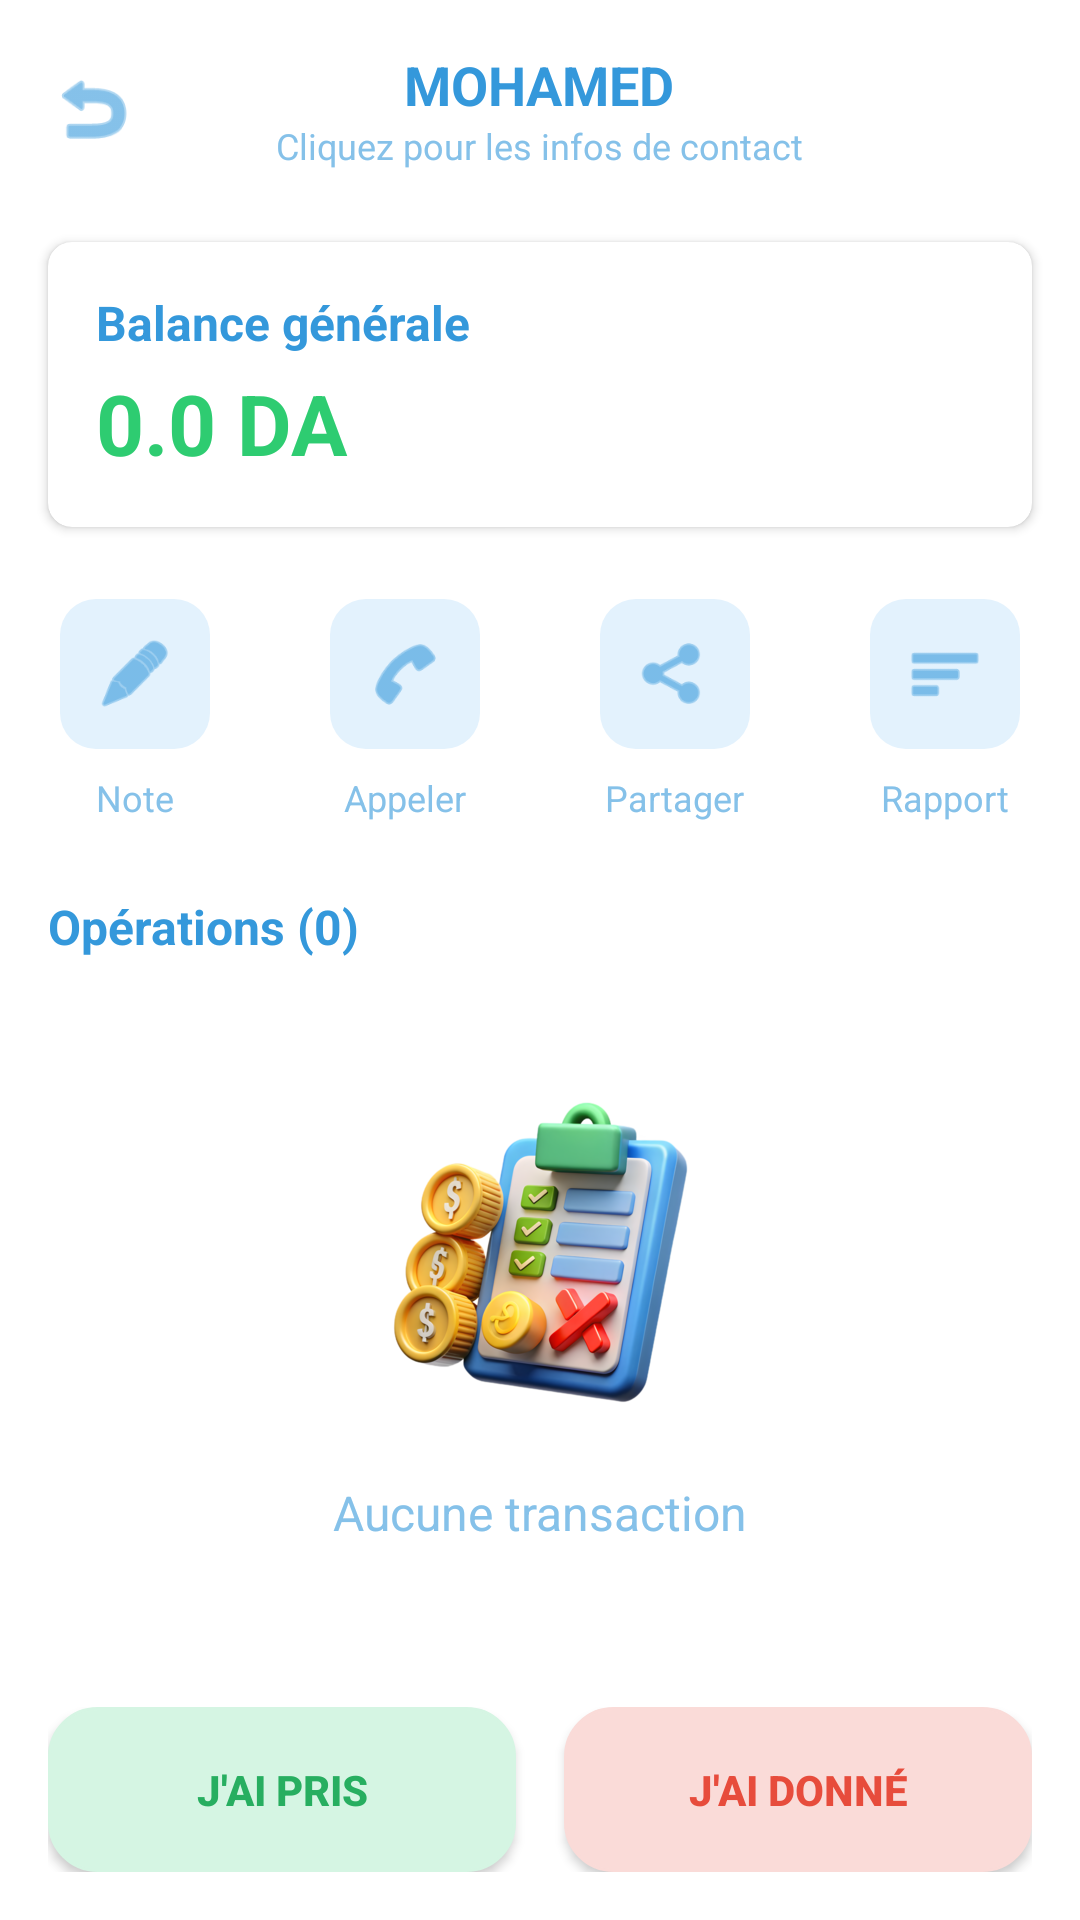

Screen size 1080 x 1920. Icon name, then its center in pixels as (x=x, y=y):
Back: (x=94, y=109)
edit: (x=135, y=674)
sort by size: (x=945, y=674)
